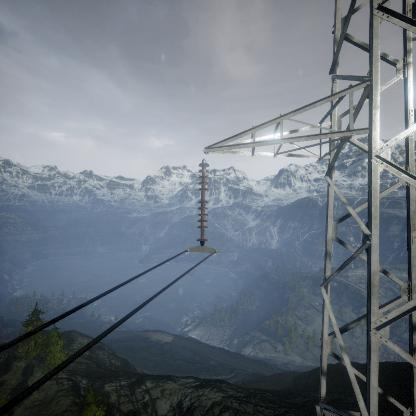insulator: (193, 158, 213, 246)
